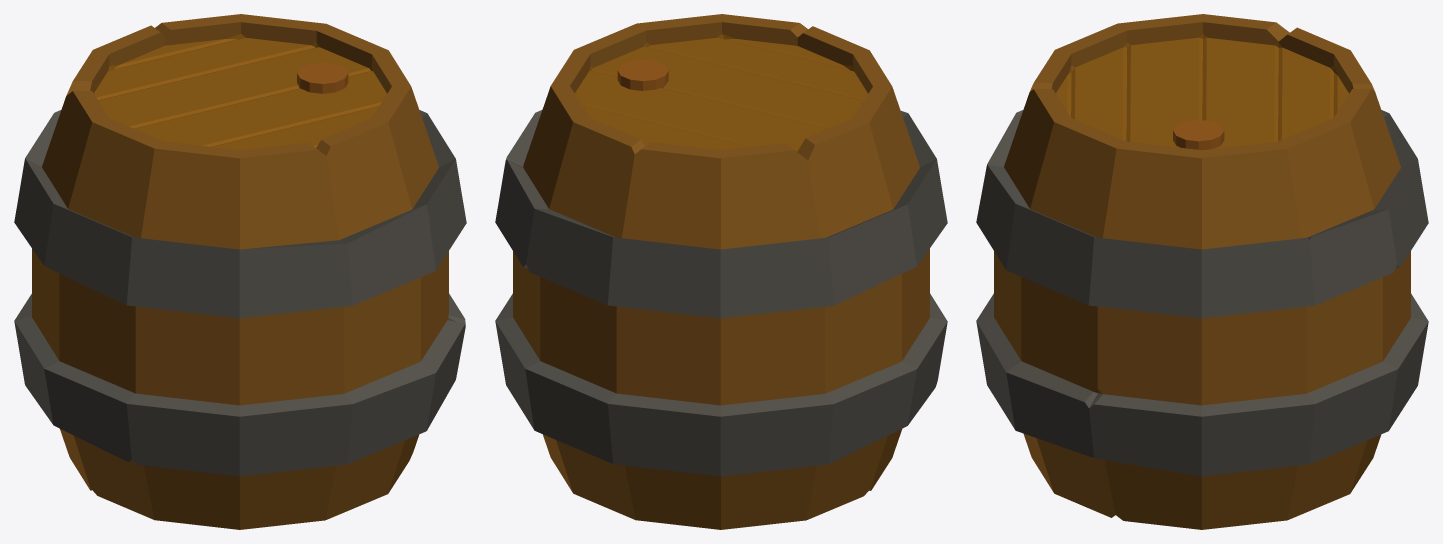
Rendered from Barrel.fbx.
3 views of the same model, side by side, from view 1: azimuth 30°, elevation 25°; view 2: azimuth 150°, elevation 25°; view 3: azimuth 270°, elevation 25° (orthographic).
Visible parts, largest first — view 1: Barrel.005; view 2: Barrel.005; view 3: Barrel.005.
Boxes of the visible parts, x1,y1,x2,y2 form: Barrel.005: (14, 14, 466, 529); Barrel.005: (495, 14, 947, 529); Barrel.005: (976, 14, 1428, 529).
Bounding box in the file's own units: 171 × 155 × 171.
